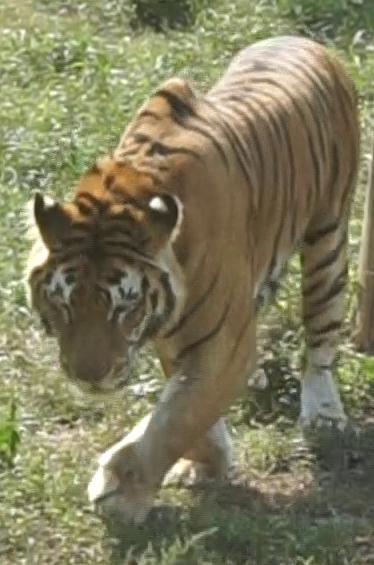tiger: (27, 36, 359, 523)
